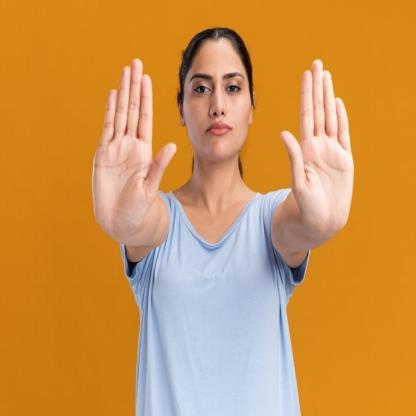stop: (272, 51, 367, 244), (91, 54, 178, 235)
